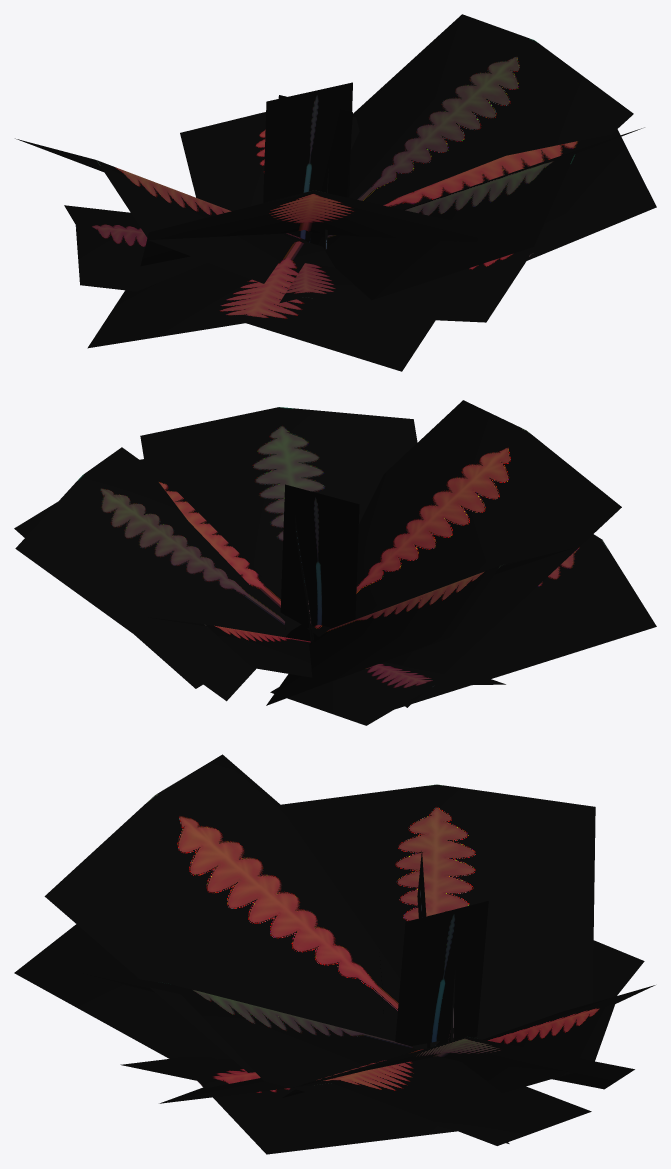
3 views of the same model, one above another, from view 1: azimuth 30°, elevation 25°; view 2: azimuth 150°, elevation 25°; view 3: azimuth 270°, elevation 25° (orthographic). The views are drawn at different scales.
Parts seen in each view (by area): view 1: alpine_avens_LOD1; view 2: alpine_avens_LOD1; view 3: alpine_avens_LOD1.
Part boxes in pixels (box(x1,y1,x2,y2)): alpine_avens_LOD1: box(15, 14, 656, 371); alpine_avens_LOD1: box(14, 400, 656, 725); alpine_avens_LOD1: box(14, 754, 655, 1154).
Size of the model in its own units: 0.3022 by 0.0909 by 0.2429.
1 material, 1 textured.
